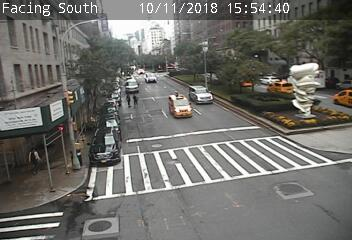car: (169, 94, 190, 118), (188, 85, 212, 105), (126, 79, 139, 92), (144, 72, 157, 83)
